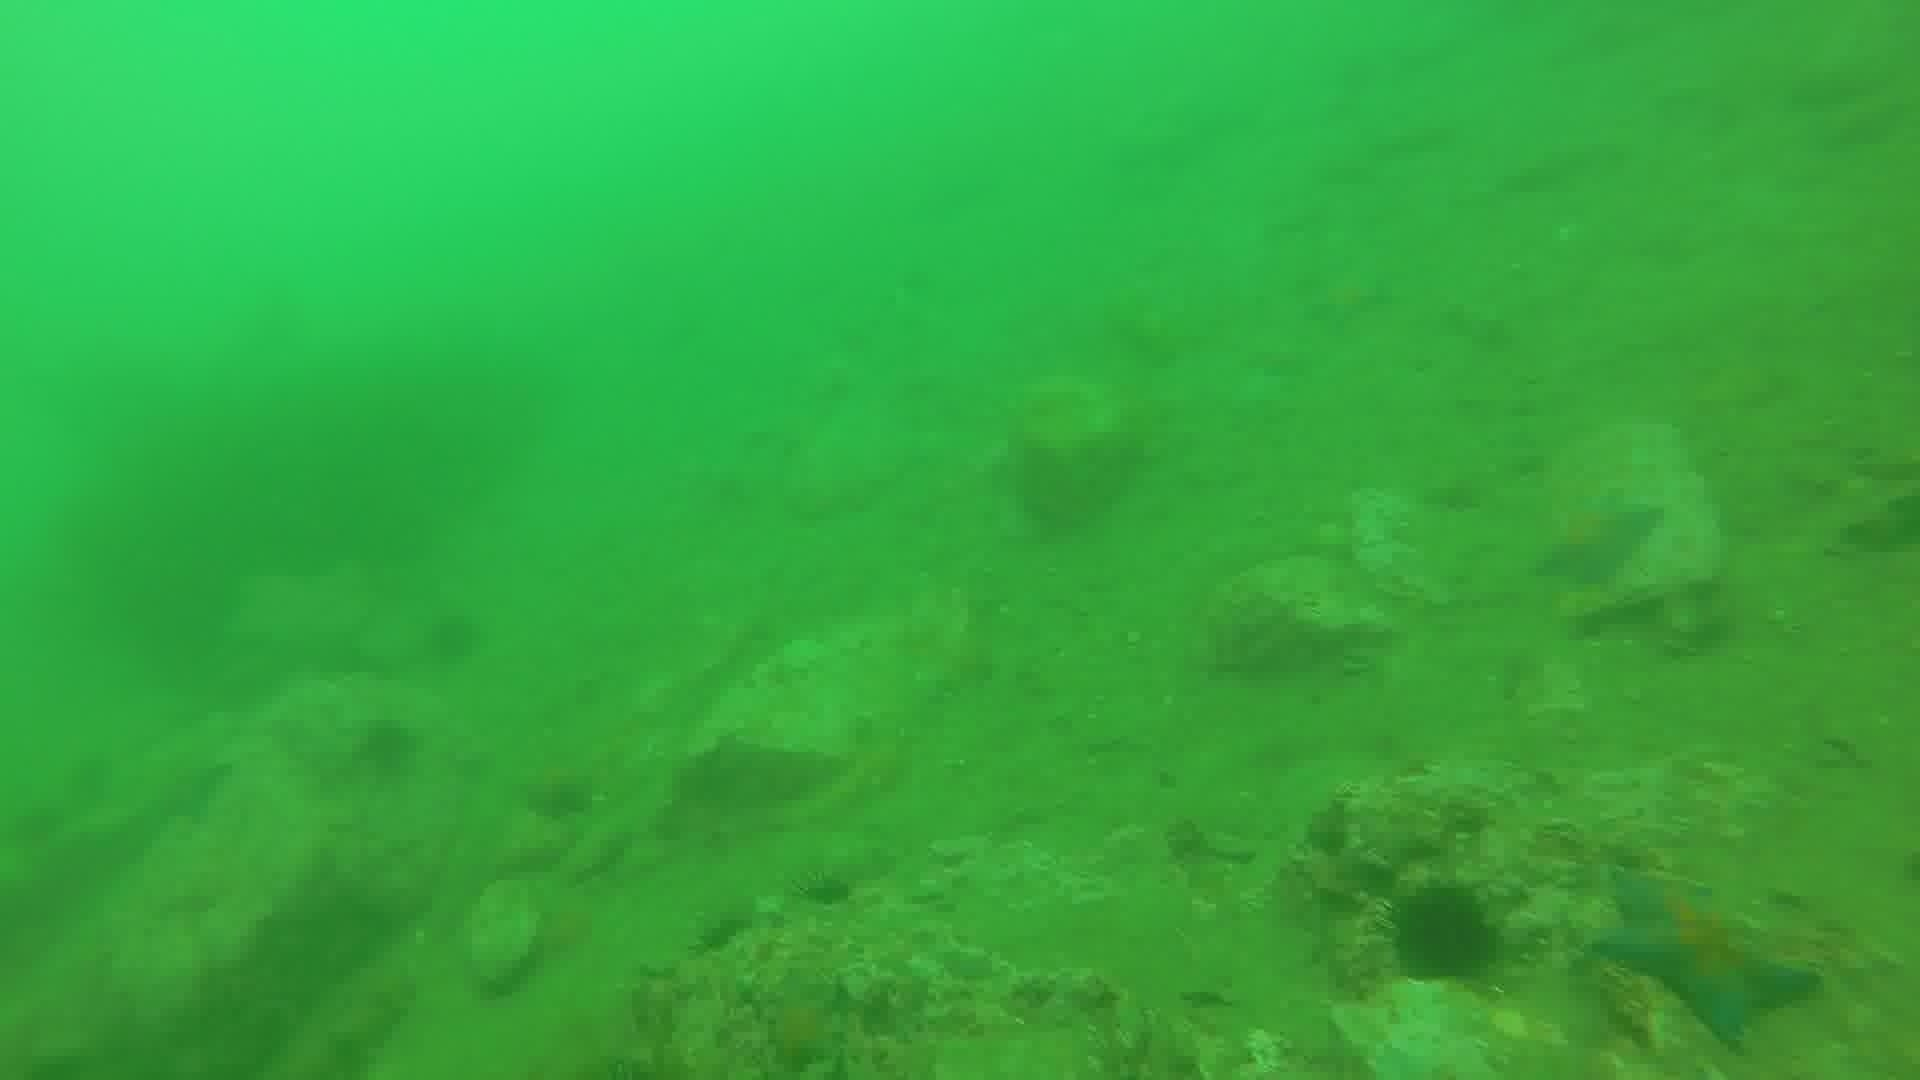echinus: (1385, 880, 1505, 988), (349, 713, 425, 785), (419, 607, 487, 669)
starfish: (1590, 862, 1822, 1048), (1528, 487, 1665, 593), (756, 971, 856, 1073), (1296, 256, 1394, 332)
